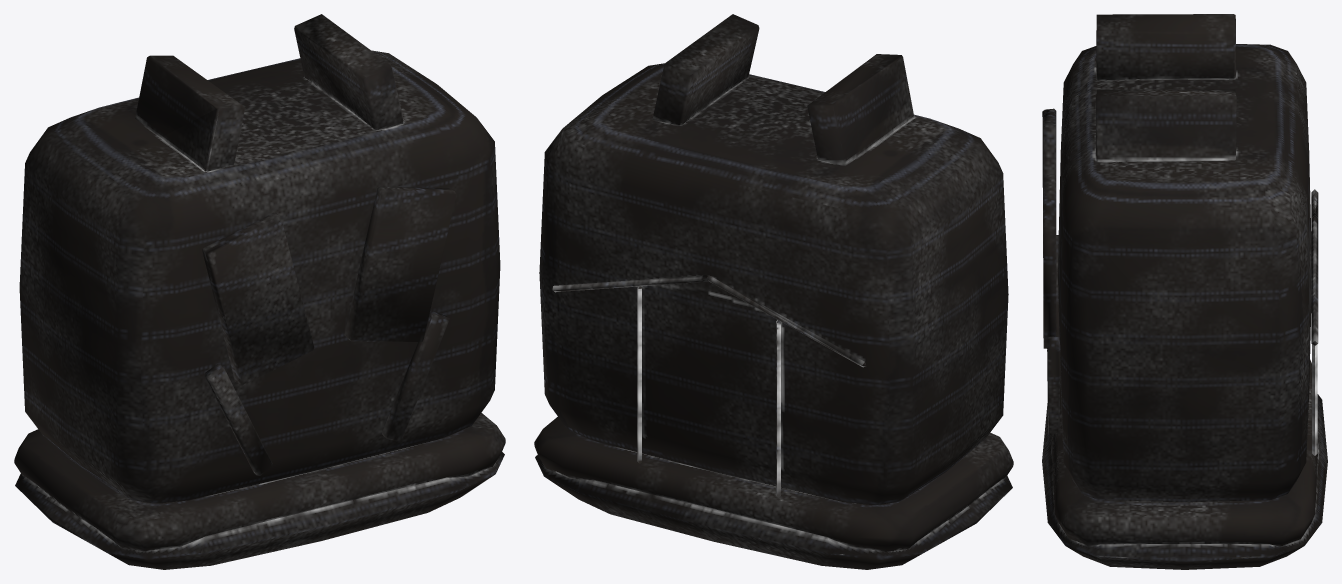
File: MatonImp_Campera.fbx
The picture shows the model from 3 angles, left to right: view 1: azimuth 30°, elevation 25°; view 2: azimuth 150°, elevation 25°; view 3: azimuth 270°, elevation 25°; orthographic projection. The views are drawn at different scales.
Visible parts, largest first — view 1: MatonImp_Campera; view 2: MatonImp_Campera; view 3: MatonImp_Campera.
Boxes of the visible parts, bbox=[...] form: MatonImp_Campera: bbox=[14, 14, 505, 569]; MatonImp_Campera: bbox=[534, 14, 1013, 569]; MatonImp_Campera: bbox=[1042, 14, 1327, 569].
Bounding box in the file's own units: 2.5 × 2.58 × 1.53.
